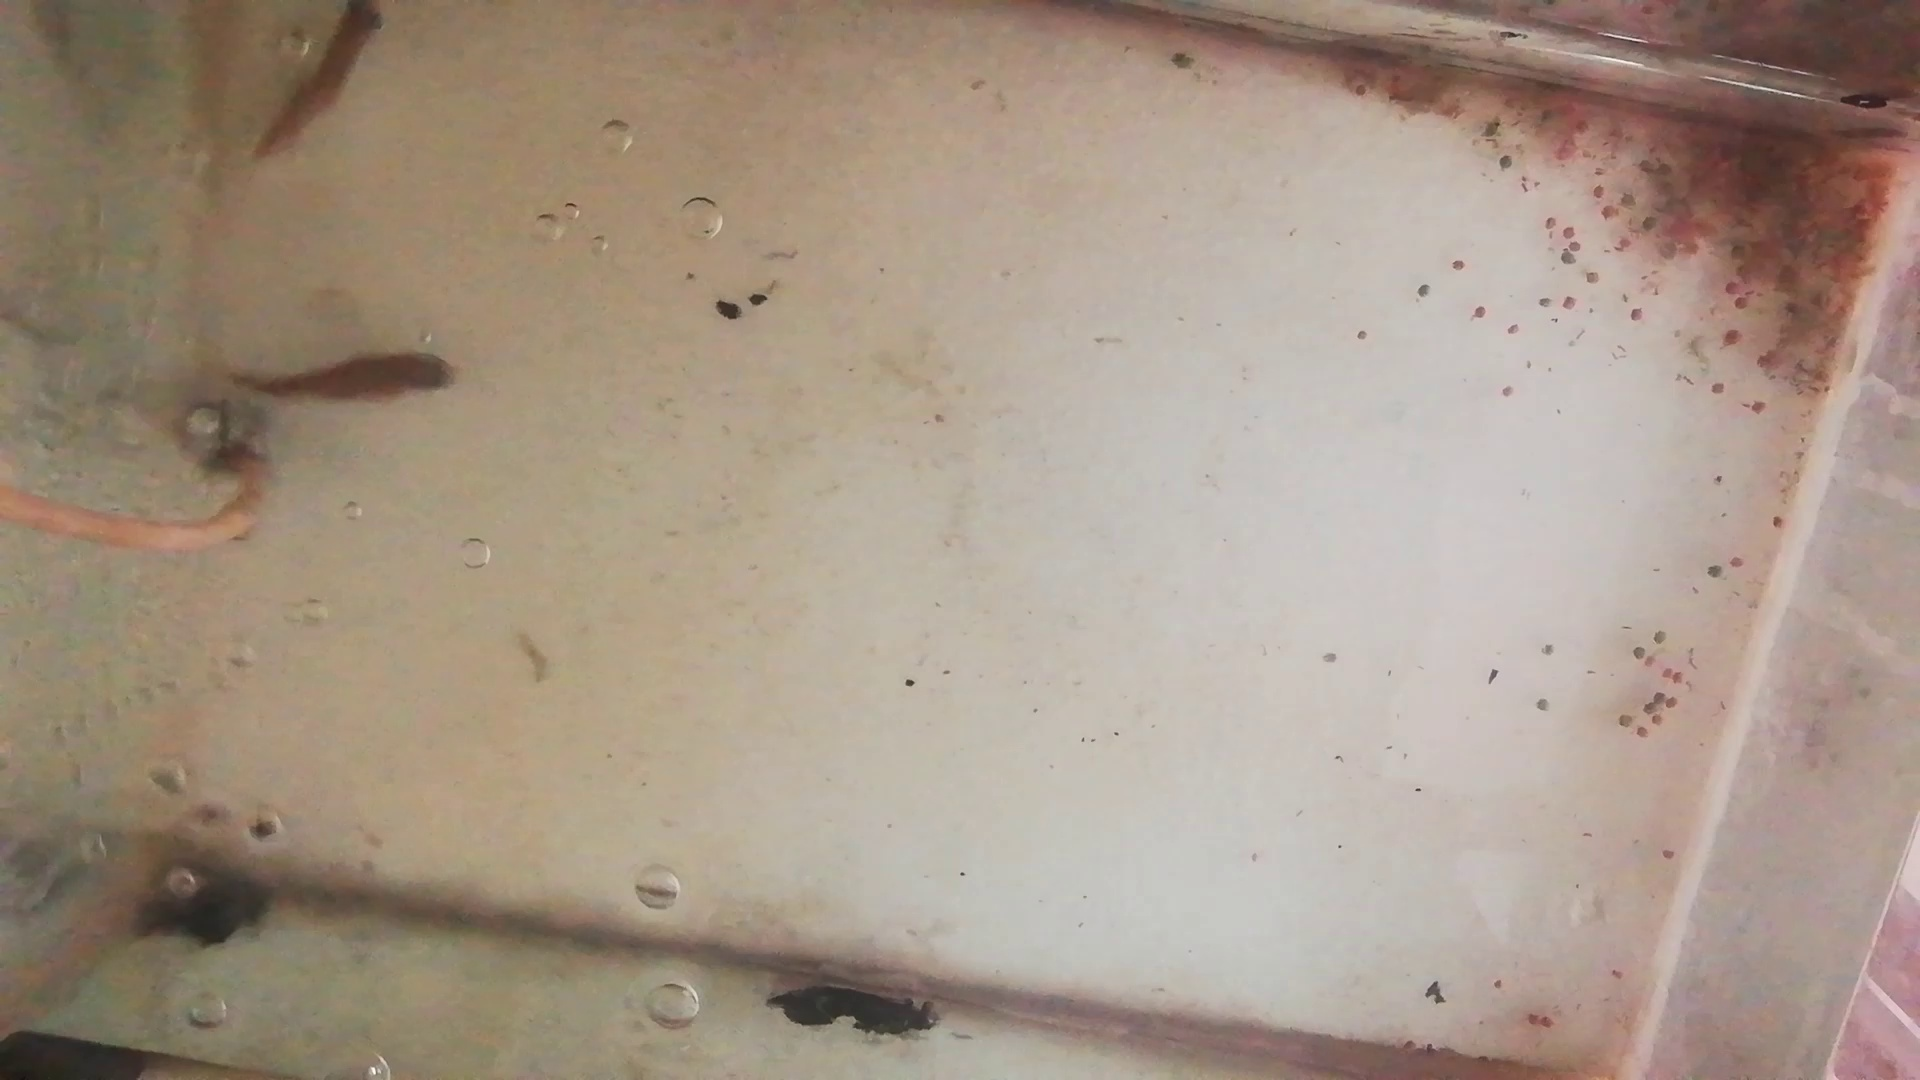fish: (252, 1, 390, 165), (243, 351, 460, 409)
